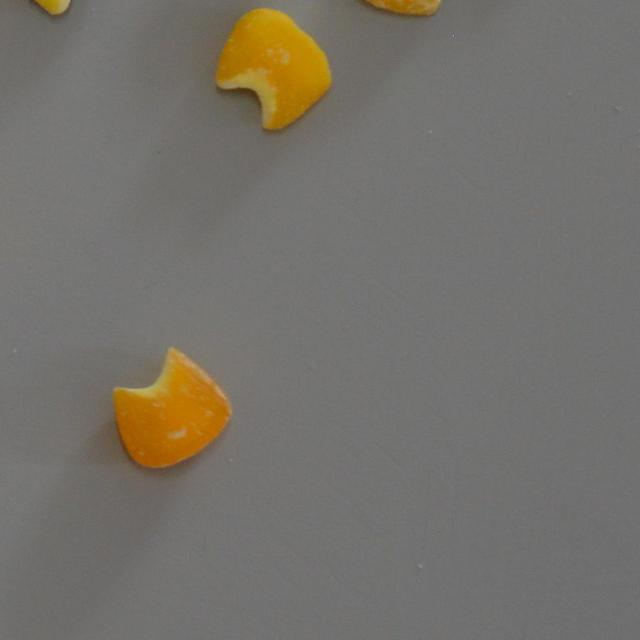no_canjicado: (1, 0, 120, 17)
pelicula: (214, 6, 333, 133), (111, 344, 232, 468), (346, 0, 466, 16)
